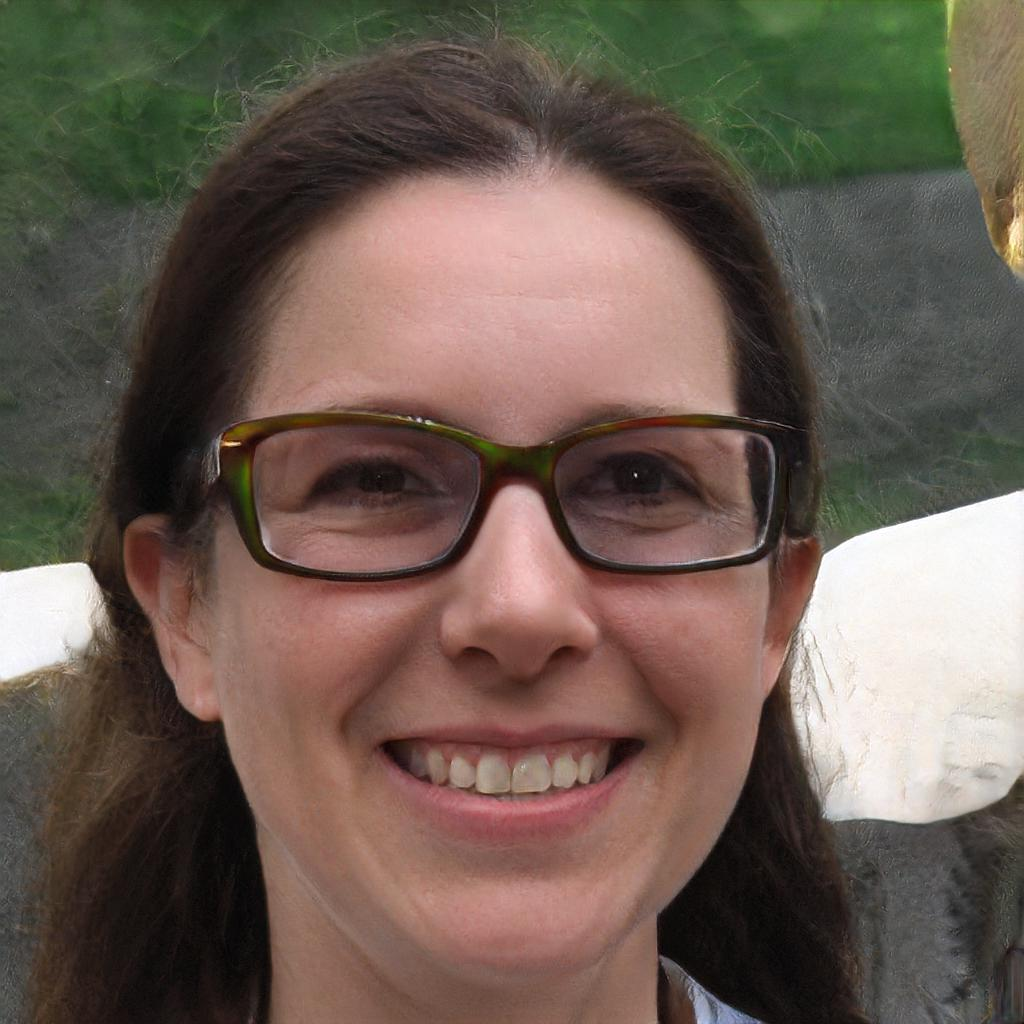face: (222, 180, 768, 972)
